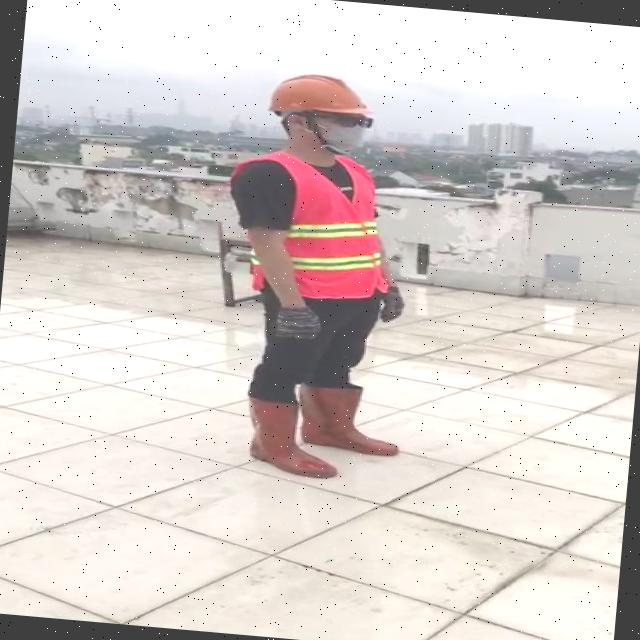boots: (228, 390, 346, 482), (294, 376, 407, 462)
